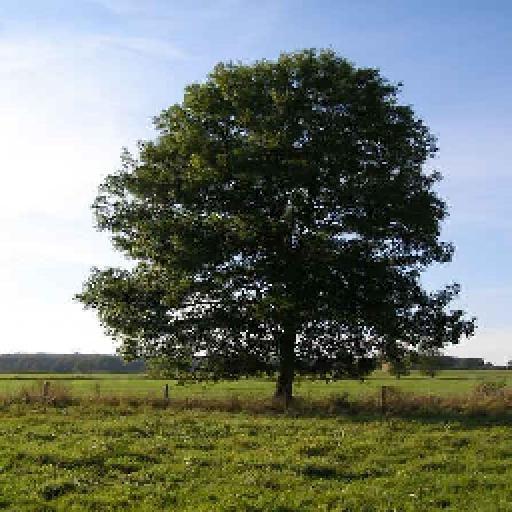trees: (76, 46, 476, 408)
